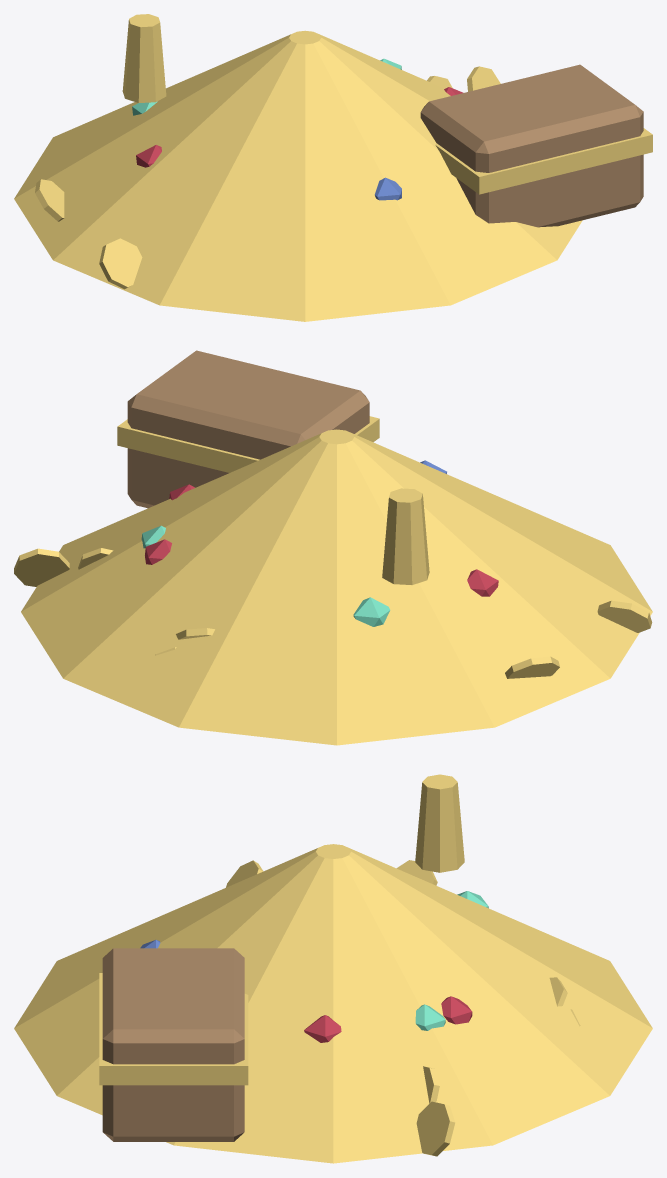
The model's file is Treasure_Pile.glb.
The picture shows the model from 3 angles, top to bottom: view 1: azimuth 30°, elevation 25°; view 2: azimuth 150°, elevation 25°; view 3: azimuth 270°, elevation 25°; orthographic projection. The views are drawn at different scales.
Parts seen in each view (by area): view 1: Treasure_Pile; view 2: Treasure_Pile; view 3: Treasure_Pile.
Part boxes in pixels (x1,y1,x2,y2): Treasure_Pile: (14, 14, 652, 321); Treasure_Pile: (14, 350, 652, 745); Treasure_Pile: (14, 774, 652, 1163).
Size of the model in its own units: 1.8 by 0.5942 by 1.8.
